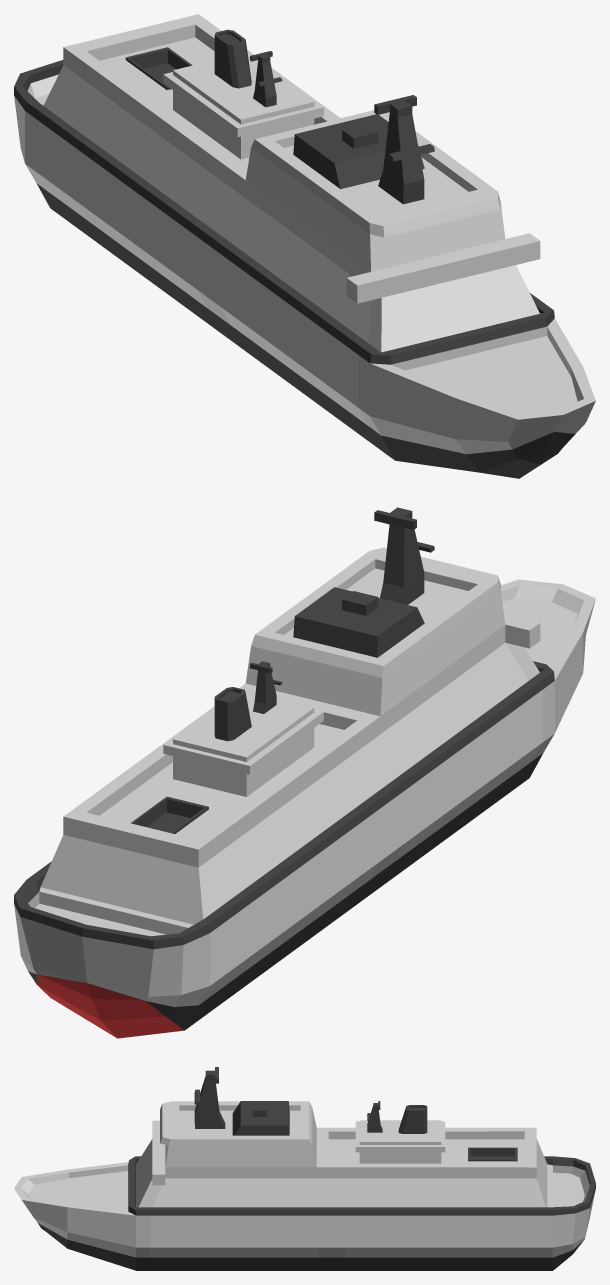
The model's file is quaternius-ships-cruise-ship.glb.
3 renders of one model, top to bottom at view 1: azimuth 30°, elevation 25°; view 2: azimuth 150°, elevation 25°; view 3: azimuth 270°, elevation 25°, orthographic. The views are drawn at different scales.
Parts seen in each view (by area): view 1: CruiseShip; view 2: CruiseShip; view 3: CruiseShip.
Part boxes in pixels (box(x1,y1,x2,y2)): CruiseShip: box(14, 14, 595, 478); CruiseShip: box(14, 507, 595, 1038); CruiseShip: box(14, 1067, 595, 1270).
Size of the model in its own units: 4 by 6.6 by 18.05.
